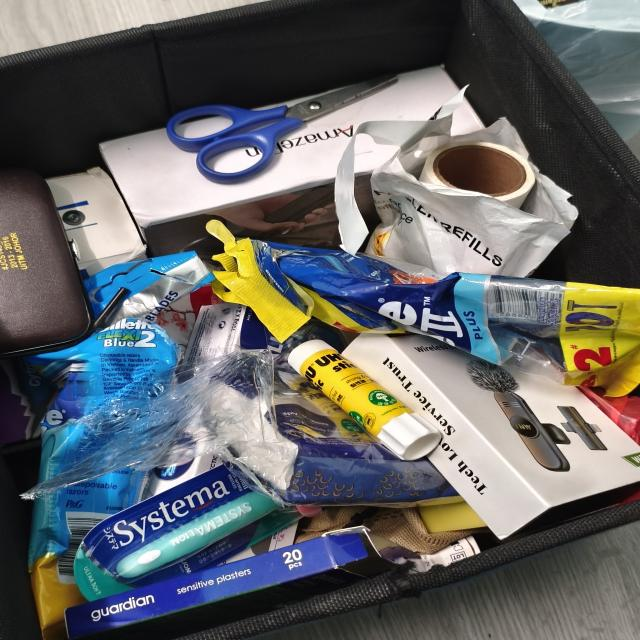glue: (288, 340, 440, 460)
scissor: (167, 75, 398, 184)
